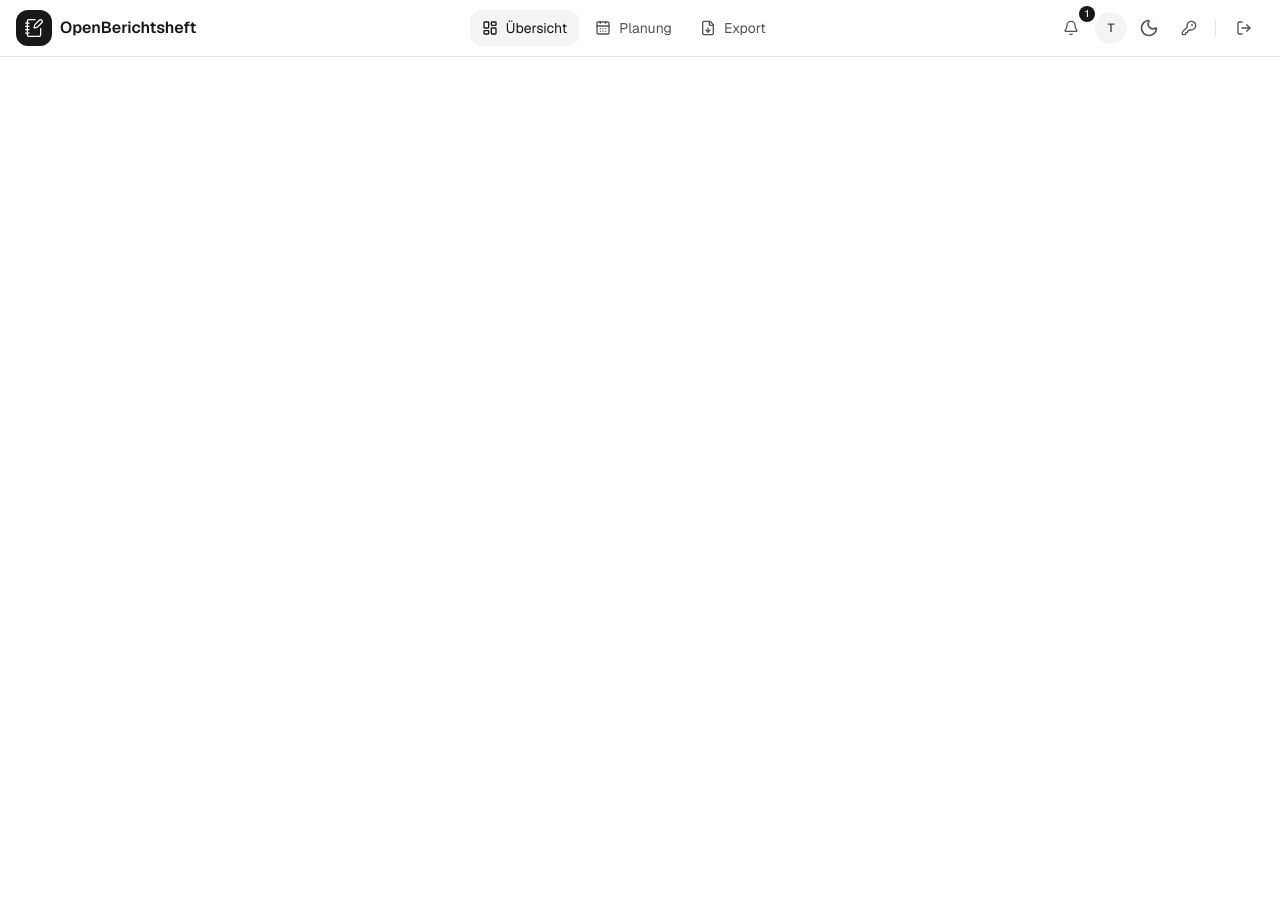
Navbar › closes notification dropdown on outside click
Click the button with class "lucide-bell" at (1071, 28), box [1051,10,1091,46]
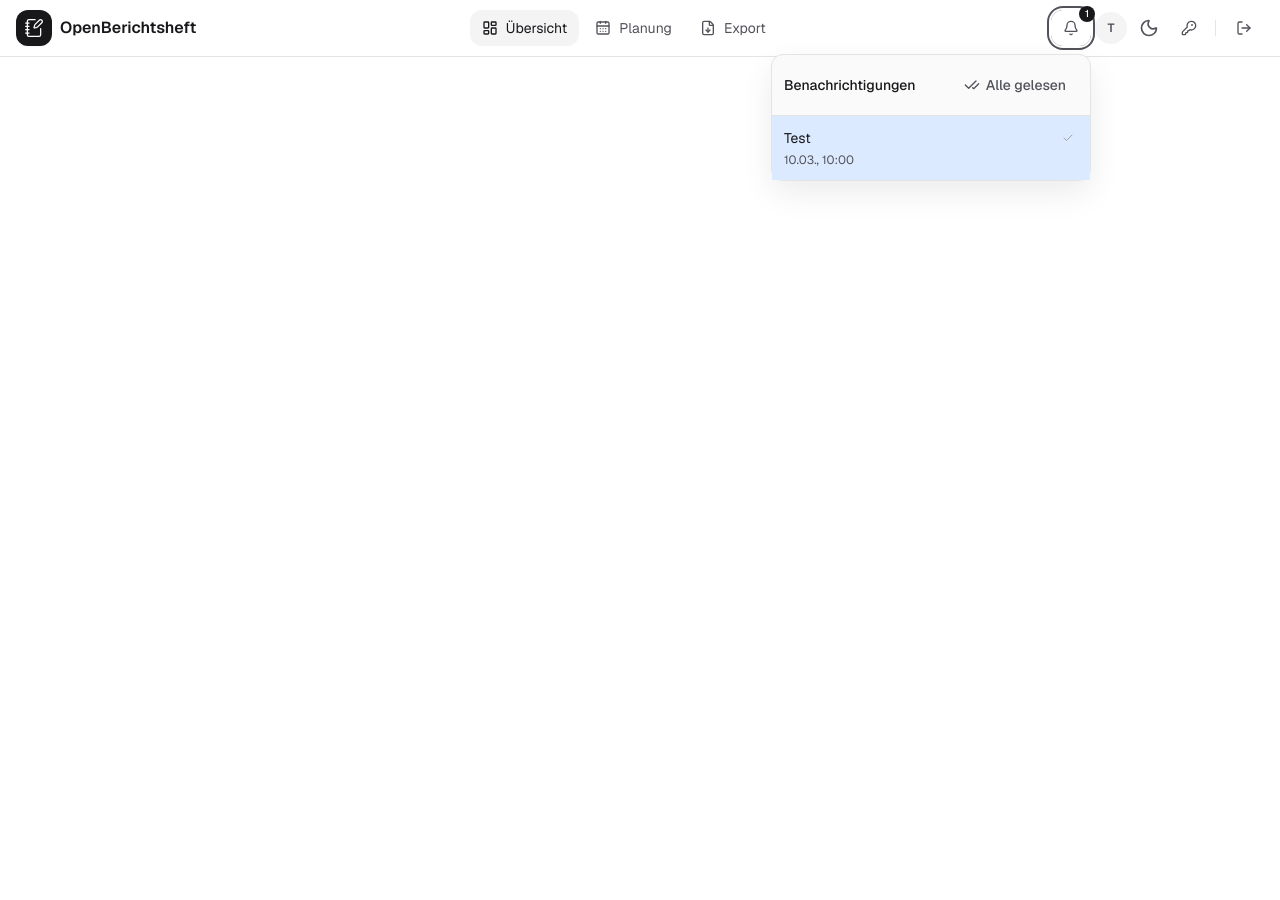
Expected: the text "Benachrichtigungen" is shown, [784,75,916,95]
Click the element that starts with "OpenBerichtsheft" at (640, 450), box [0,0,1279,899]
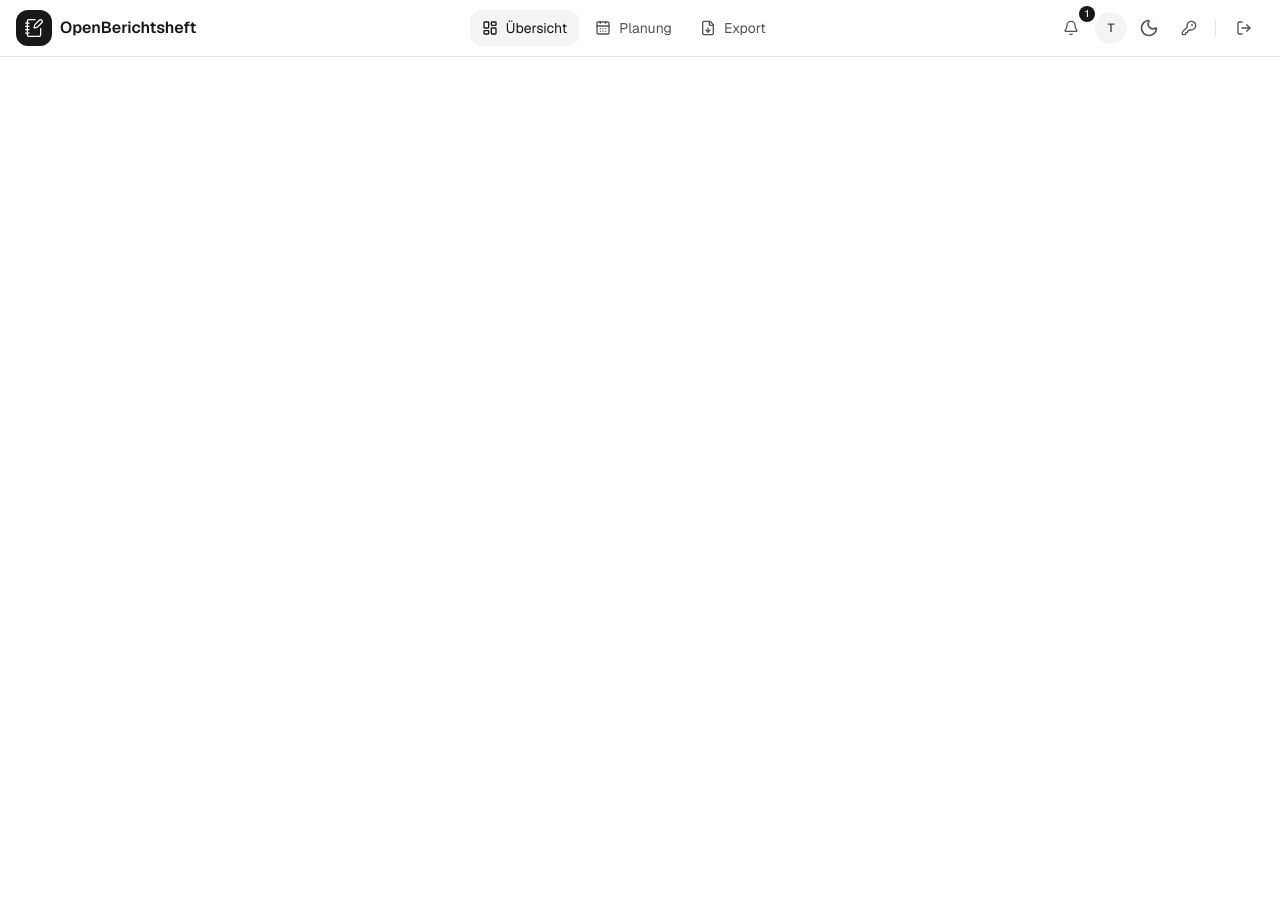
Expected: the text "Benachrichtigungen" is gone
